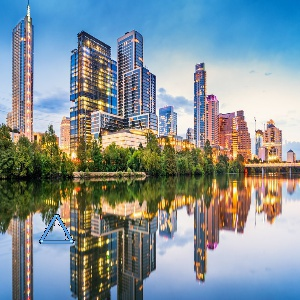triangle: (32, 212, 76, 245)
